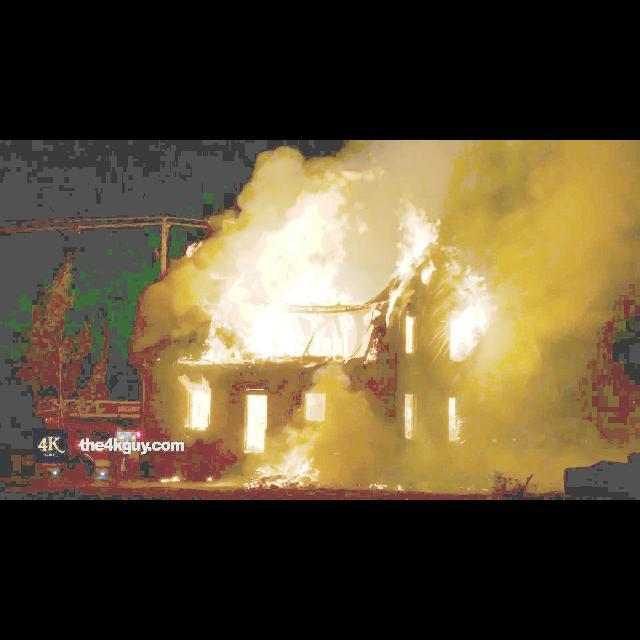Fire: (184, 169, 368, 363), (448, 280, 514, 358), (382, 198, 448, 270), (268, 448, 316, 484), (186, 383, 218, 427), (243, 398, 264, 449)
